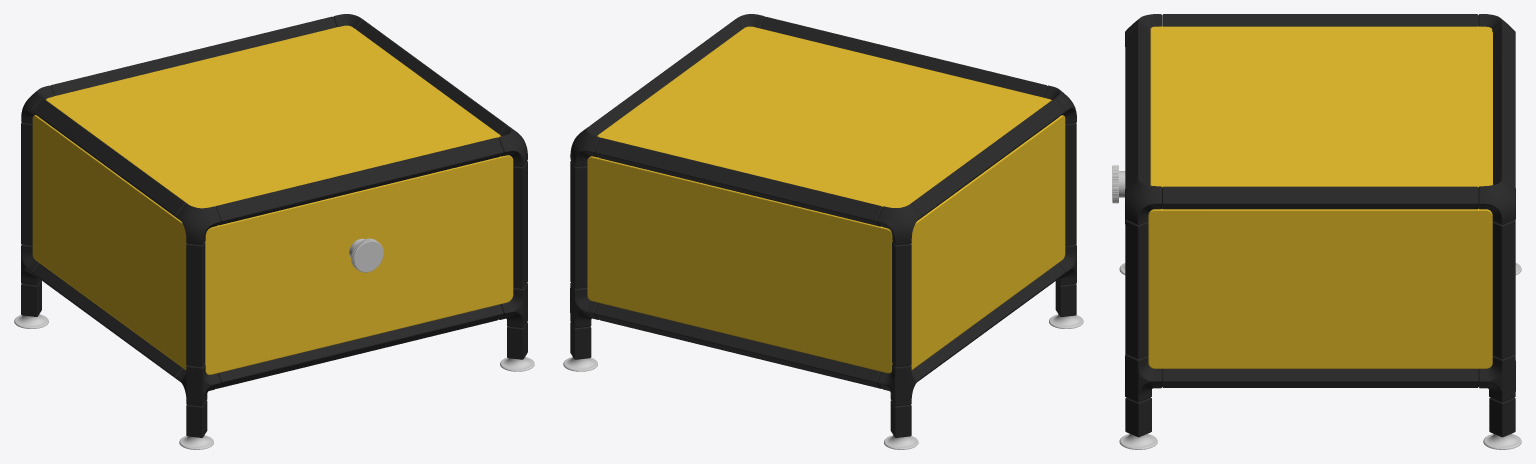
The picture shows the model from 3 angles, left to right: view 1: azimuth 30°, elevation 25°; view 2: azimuth 150°, elevation 25°; view 3: azimuth 270°, elevation 25°; orthographic projection. The views are drawn at different scales.
Parts seen in each view (by area): view 1: 374x329x154; view 2: 374x329x154; view 3: 374x329x154.
Boxes of the visible parts, left/top/right/bottom form: 374x329x154: left=14, top=14, right=534, bottom=449; 374x329x154: left=563, top=14, right=1083, bottom=449; 374x329x154: left=1112, top=14, right=1521, bottom=449.
Size of the model in its own units: 0.4639 by 0.2933 by 0.4257.
